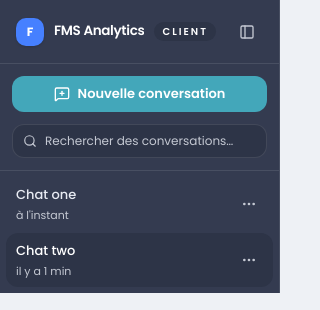
Test: ConversationsSidebar › Escape closes the menu
Click the 1st button named "Options de la conversation" at [249, 204], box left=235, top=190, right=263, bottom=218
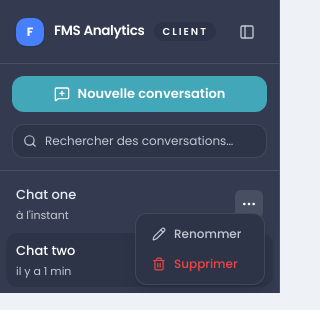
Result: the menu is shown at left=135, top=213, right=265, bottom=285
Press Escape
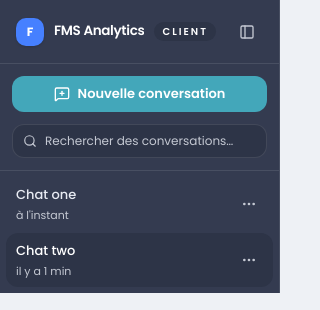
Result: the menu is gone
